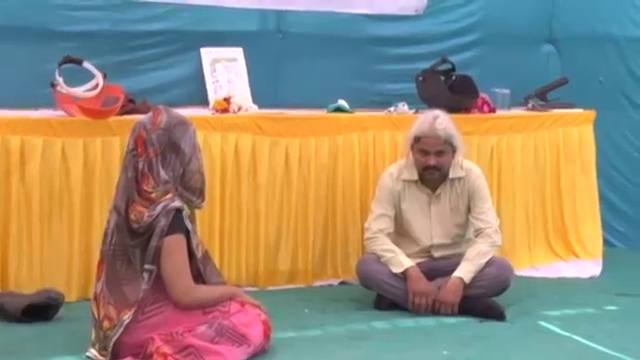helmet_off: (122, 108, 203, 209), (408, 110, 456, 183)
person: (86, 104, 271, 360), (356, 108, 515, 324)
